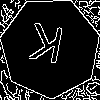K: (25, 22, 66, 74)
